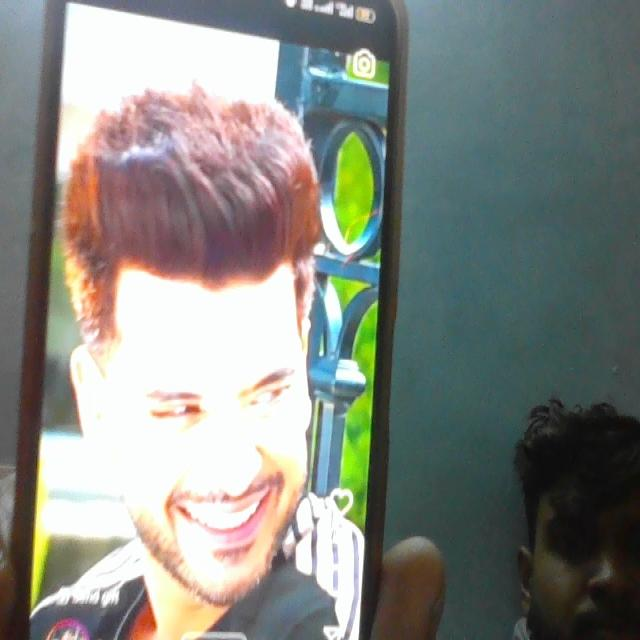fake: (80, 123, 339, 612)
